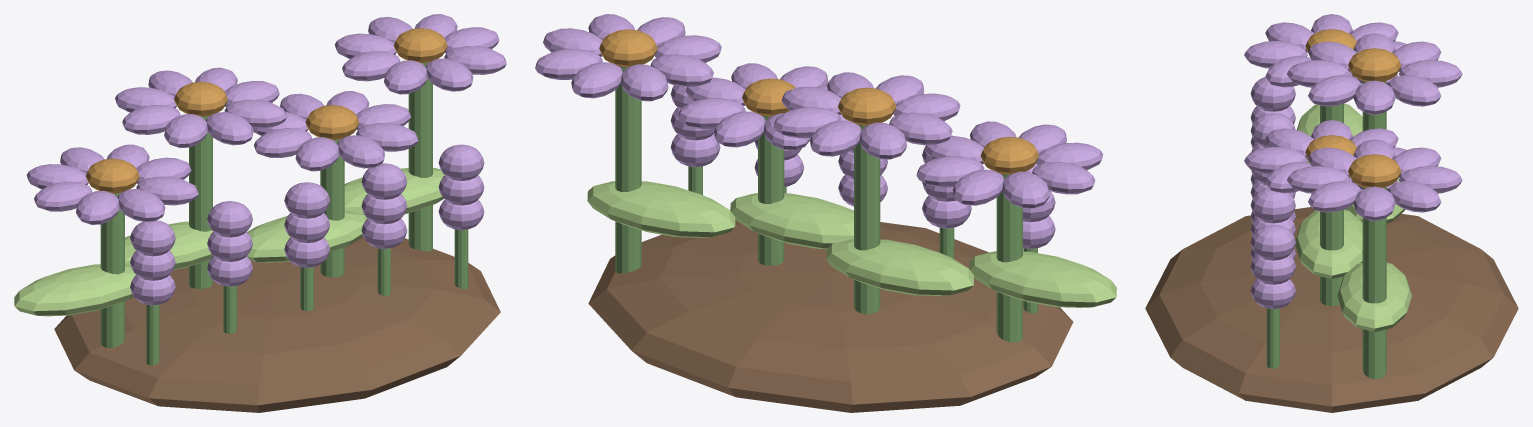
The model's file is Lavender3.fbx.
3 renders of one model, left to right at view 1: azimuth 30°, elevation 25°; view 2: azimuth 150°, elevation 25°; view 3: azimuth 270°, elevation 25°, orthographic. The views are drawn at different scales.
Visible parts, largest first — view 1: Worksite soil bed.012, Wide leaf.012, Flower stalk.015, Wide leaf.014, Flower stalk.013, Flower stalk.012, Wide leaf.015, Flower stalk.014, Wide leaf.013, Pollen disk.014, Pollen disk.012, Pollen disk.015 (+53 smaller); view 2: Worksite soil bed.012, Wide leaf.015, Wide leaf.013, Wide leaf.012, Wide leaf.014, Flower stalk.015, Flower stalk.013, Flower stalk.012, Flower stalk.014, Pollen disk.015, Pollen disk.012, Pollen disk.013 (+37 smaller); view 3: Worksite soil bed.012, Flower stalk.015, Wide leaf.015, Wide leaf.014, Flower stalk.014, Pollen disk.013, Pollen disk.015, Tiny violet bloom.044, Colored petal.111, Colored petal.105, Colored petal.121, Colored petal.127 (+33 smaller).
Part boxes in pixels (x1,y1,x2,y2): Worksite soil bed.012: (54, 237, 500, 412); Wide leaf.012: (14, 264, 135, 316); Flower stalk.015: (408, 62, 432, 251); Wide leaf.014: (247, 210, 367, 262); Flower stalk.013: (189, 116, 212, 289); Flower stalk.012: (100, 192, 124, 347); Wide leaf.015: (344, 168, 444, 214); Flower stalk.014: (320, 139, 344, 277); Wide leaf.013: (125, 221, 213, 270); Pollen disk.014: (305, 105, 359, 139); Pollen disk.012: (86, 158, 139, 193); Pollen disk.015: (394, 28, 447, 63); Worksite soil bed.012: (588, 220, 1073, 412); Wide leaf.015: (587, 181, 735, 237); Wide leaf.013: (826, 239, 973, 295); Wide leaf.012: (969, 251, 1116, 307); Wide leaf.014: (730, 193, 853, 249); Flower stalk.015: (615, 66, 641, 273); Flower stalk.013: (854, 124, 880, 314); Flower stalk.012: (996, 174, 1022, 342); Flower stalk.014: (758, 115, 784, 265); Pollen disk.015: (599, 29, 657, 67); Pollen disk.012: (980, 136, 1038, 174); Pollen disk.013: (838, 87, 896, 125); Worksite soil bed.012: (1145, 207, 1518, 412); Flower stalk.015: (1362, 187, 1386, 378); Wide leaf.015: (1337, 262, 1411, 331); Wide leaf.014: (1295, 209, 1362, 278); Flower stalk.014: (1320, 209, 1343, 305); Pollen disk.013: (1348, 48, 1401, 81); Pollen disk.015: (1348, 154, 1401, 187); Tiny violet bloom.044: (1250, 224, 1295, 260); Colored petal.111: (1308, 75, 1361, 106); Colored petal.105: (1387, 75, 1441, 106); Colored petal.121: (1388, 181, 1441, 212); Colored petal.127: (1308, 181, 1361, 212).
Bounding box in the file's own units: 216 × 110 × 140.
